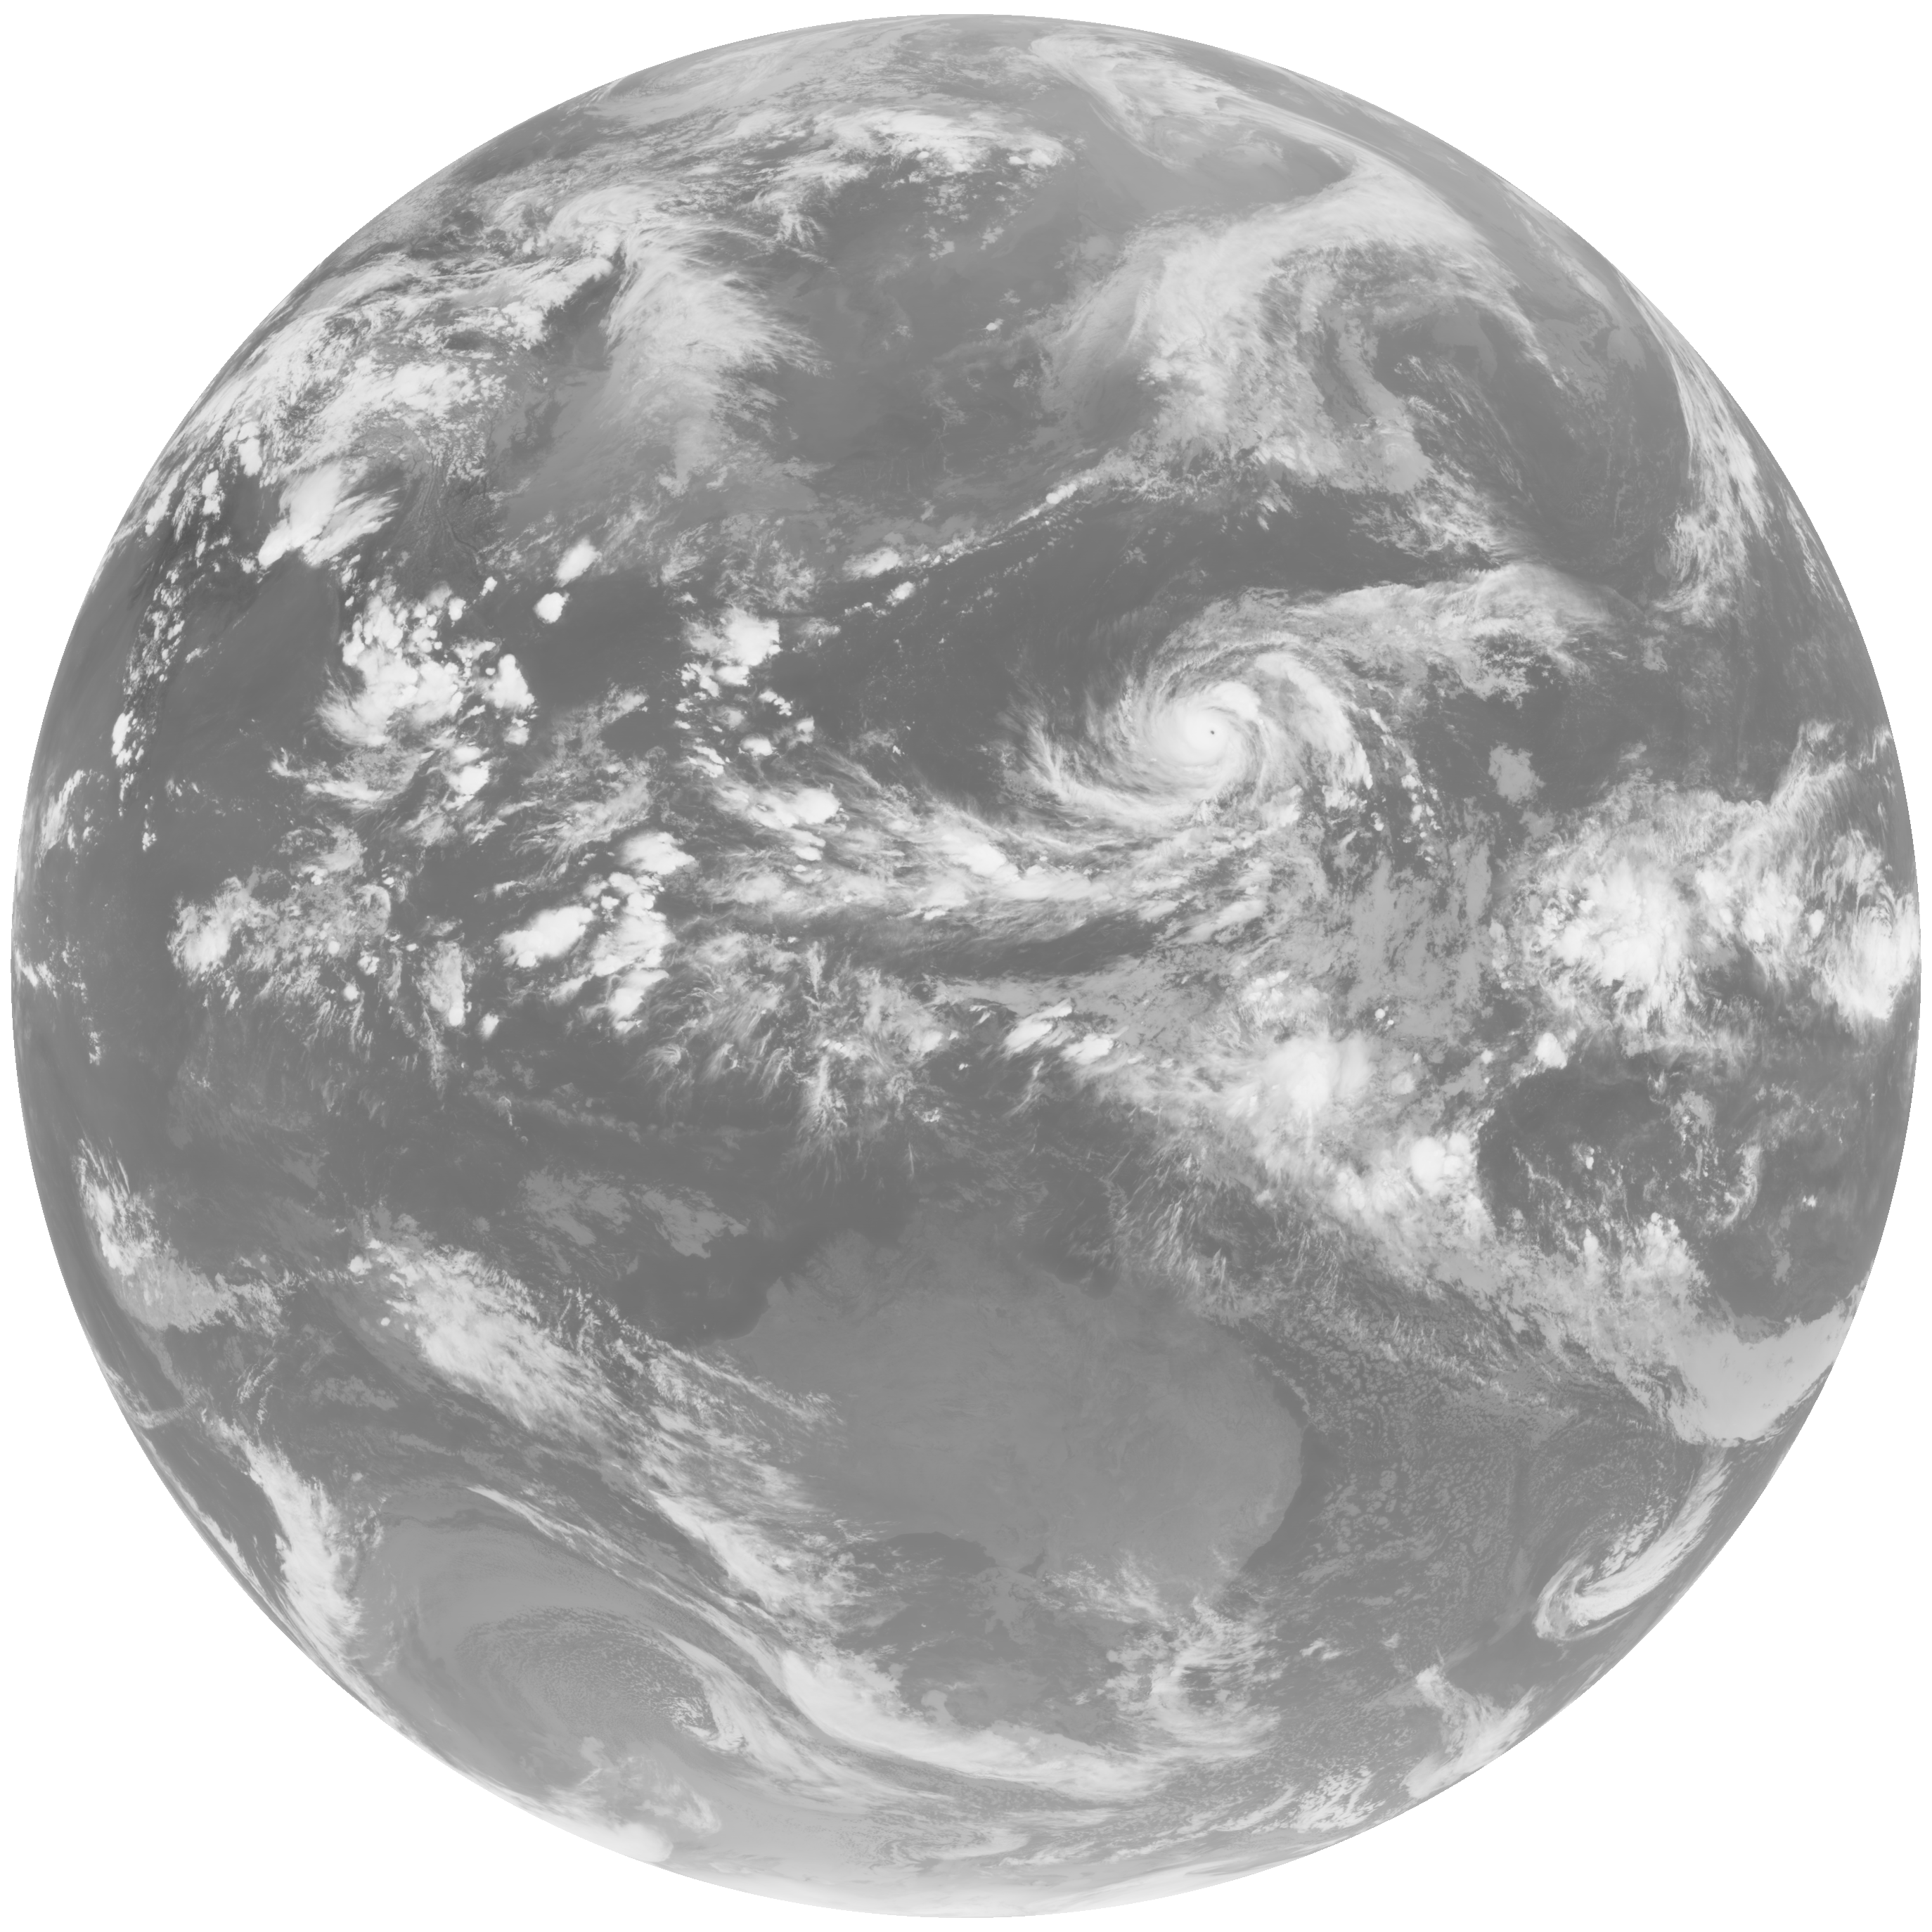typhoon: (948, 556, 1562, 939)
